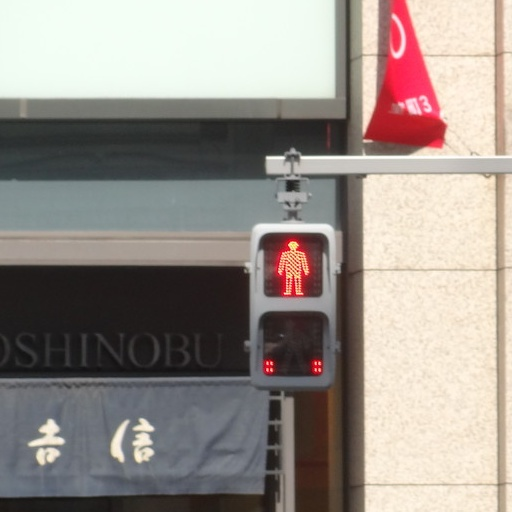Pedestrian_Signal_Red: (246, 219, 333, 378)
